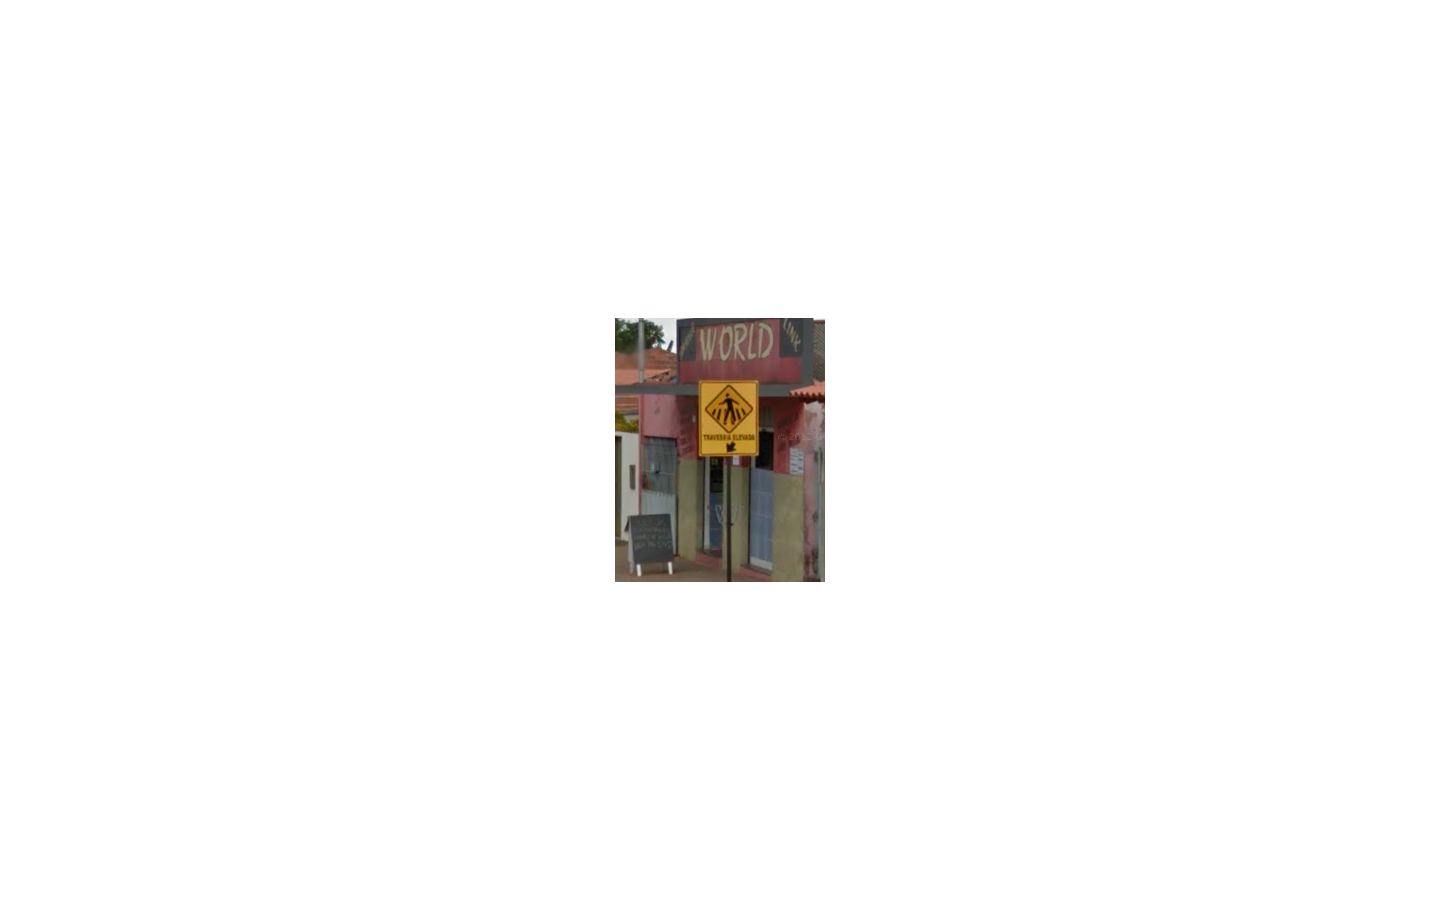telev: (696, 378, 760, 458)
